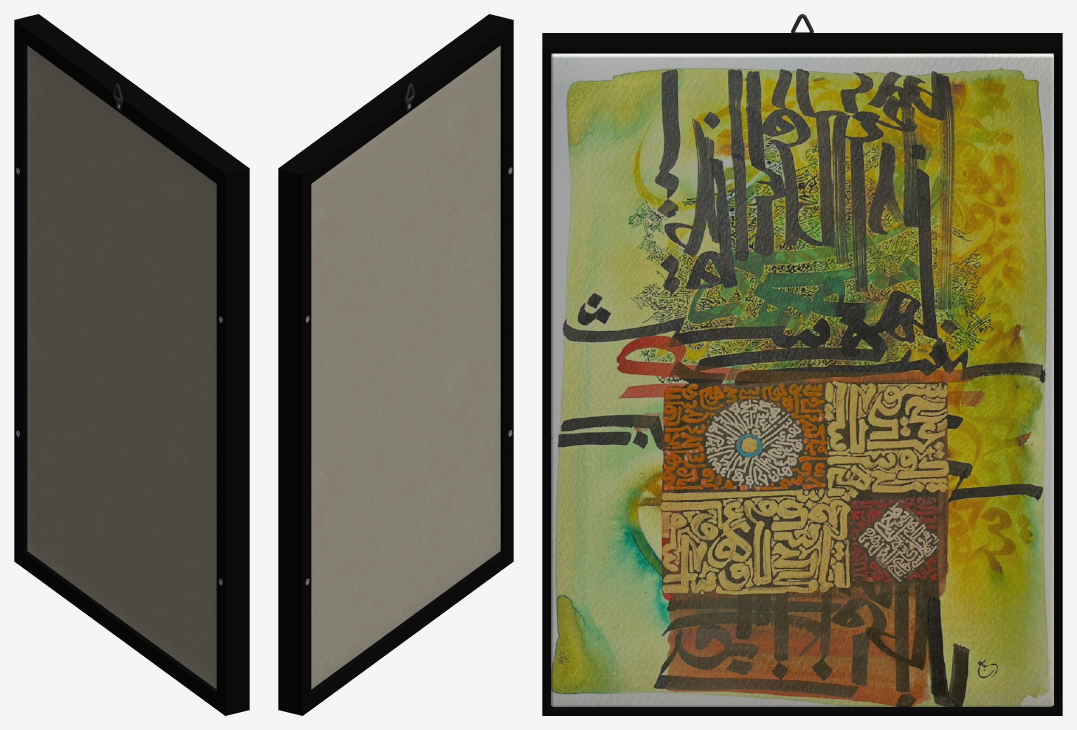
Rendered from table 6.glb.
3 views of the same model, side by side, from view 1: azimuth 30°, elevation 25°; view 2: azimuth 150°, elevation 25°; view 3: azimuth 270°, elevation 25° (orthographic). The views are drawn at different scales.
Parts seen in each view (by area): view 1: Canvas.003, Frame.003; view 2: Canvas.003, Frame.003; view 3: Canvas.003, Frame.003.
Part boxes in pixels (x1,y1,x2,y2): Canvas.003: (27,45,216,689); Frame.003: (14,14,249,715); Canvas.003: (311,45,500,689); Frame.003: (278,14,513,715); Canvas.003: (551,53,1053,706); Frame.003: (542,33,1062,715).
Size of the model in its own units: 0.0457 by 0.8722 by 0.6.
5 materials, 2 textured.
